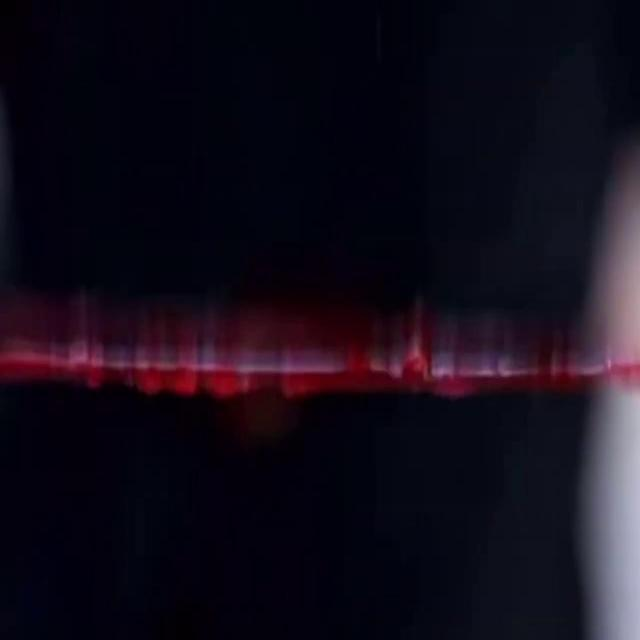flood: (2, 271, 636, 429)
